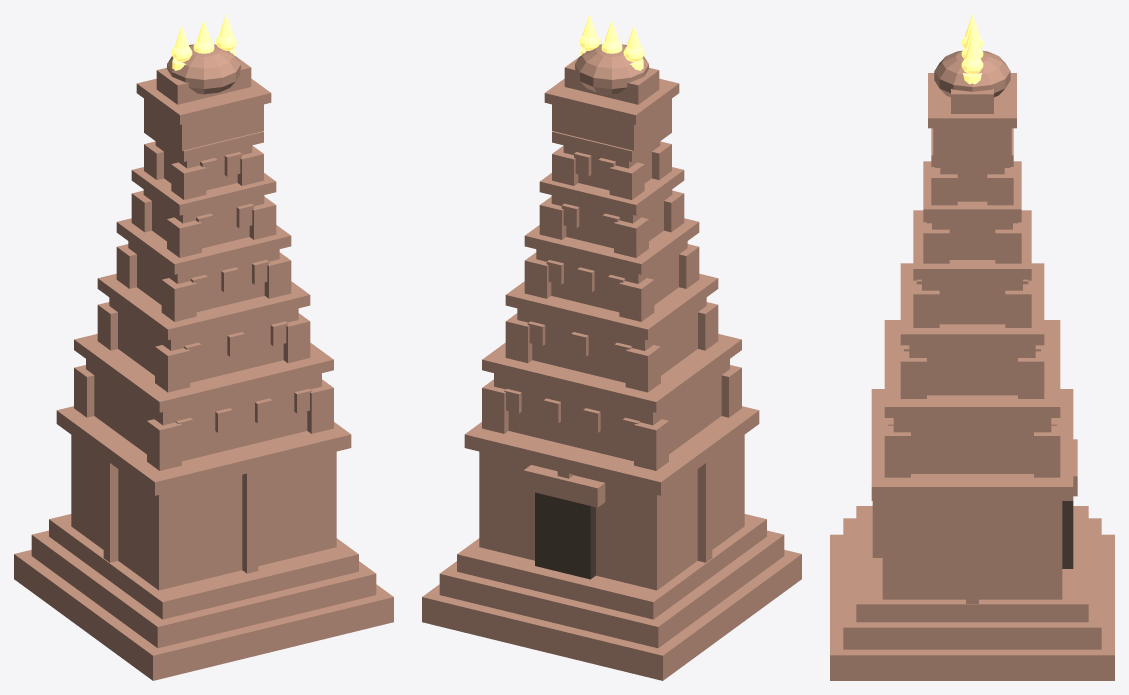
The model's file is gopuram.glb.
The picture shows the model from 3 angles, left to right: view 1: azimuth 30°, elevation 25°; view 2: azimuth 150°, elevation 25°; view 3: azimuth 270°, elevation 25°; orthographic projection. The views are drawn at different scales.
Visible parts, largest first — view 1: Gopuram, Kalasam; view 2: Gopuram, Doorway, Kalasam; view 3: Gopuram, Kalasam, Doorway.
Boxes of the visible parts, left/top/right/bottom form: Gopuram: left=14, top=44, right=393, bottom=680; Kalasam: left=171, top=14, right=236, bottom=70; Gopuram: left=422, top=44, right=801, bottom=680; Doorway: left=535, top=492, right=595, bottom=579; Kalasam: left=579, top=14, right=644, bottom=70; Gopuram: left=830, top=50, right=1114, bottom=680; Kalasam: left=961, top=14, right=983, bottom=84; Doorway: left=1062, top=501, right=1073, bottom=568.
Size of the model in its own units: 1.3 by 3 by 1.3.
